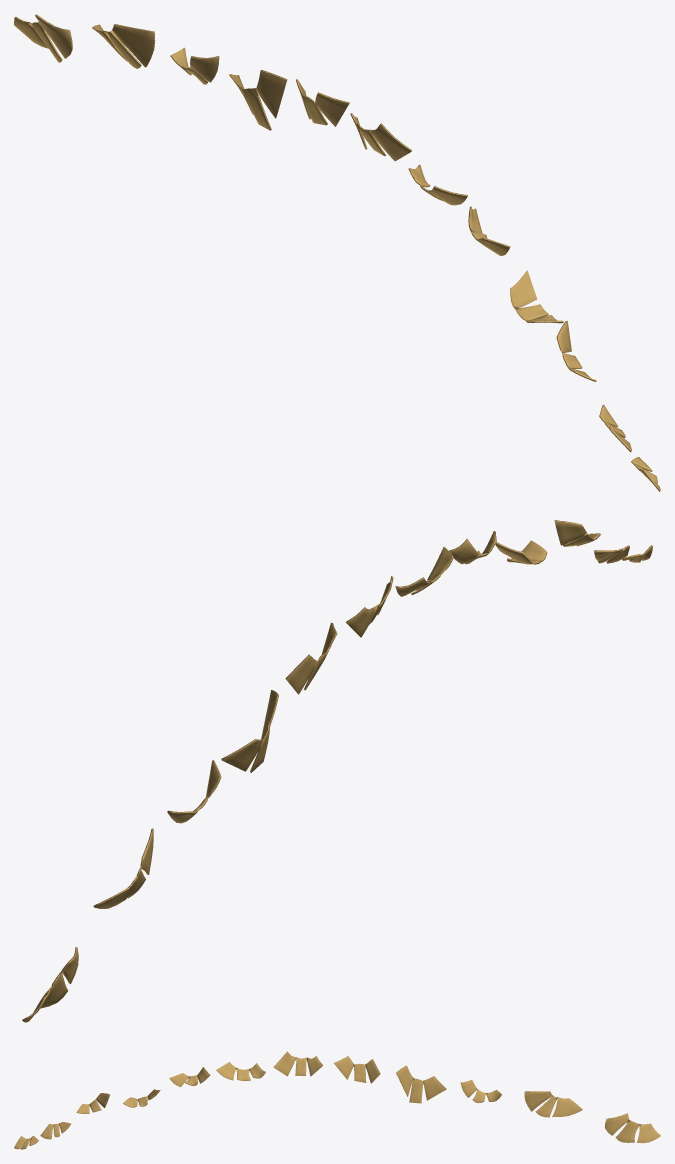
The picture shows the model from 3 angles, top to bottom: view 1: azimuth 30°, elevation 25°; view 2: azimuth 150°, elevation 25°; view 3: azimuth 270°, elevation 25°; orthographic projection. The views are drawn at different scales.
Visible parts, largest first — view 1: 右侧肋头辐状韧带; view 2: 右侧肋头辐状韧带; view 3: 右侧肋头辐状韧带.
Boxes of the visible parts, left/top/right/bottom form: 右侧肋头辐状韧带: left=14, top=14, right=660, bottom=491; 右侧肋头辐状韧带: left=22, top=520, right=652, bottom=1022; 右侧肋头辐状韧带: left=14, top=1051, right=660, bottom=1149.
Bounding box in the file's own units: 0.0186 × 0.0716 × 0.4492.
